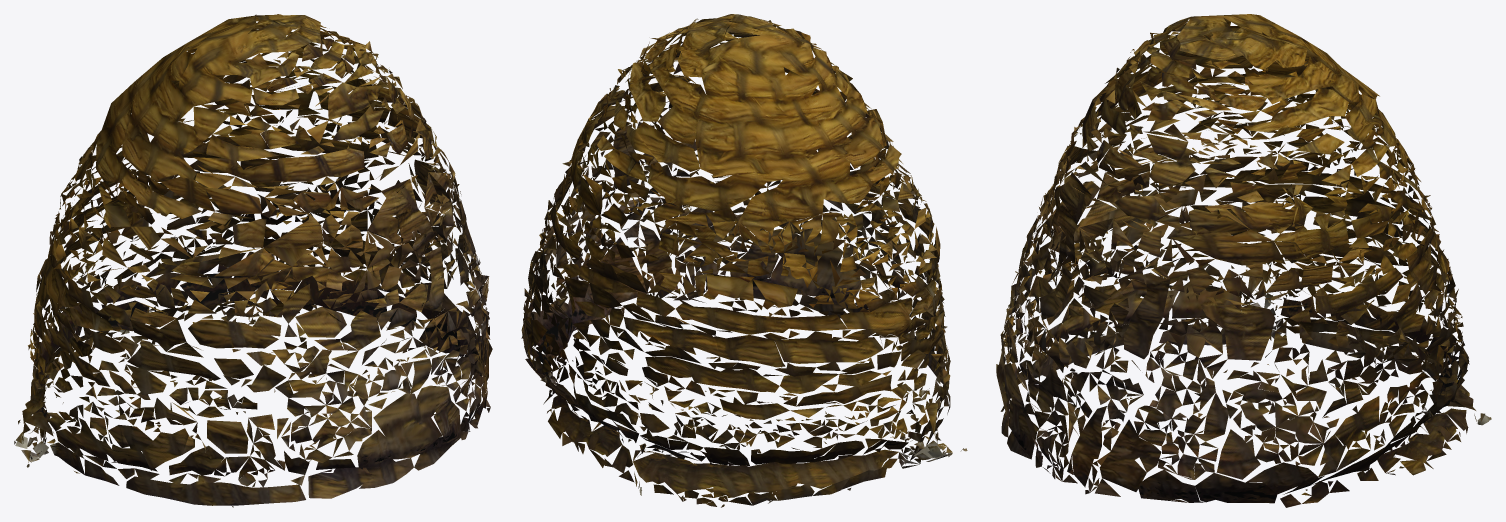
Rendered from beehive_skep.glb.
3 renders of one model, left to right at view 1: azimuth 30°, elevation 25°; view 2: azimuth 150°, elevation 25°; view 3: azimuth 270°, elevation 25°, orthographic. The views are drawn at different scales.
Parts seen in each view (by area): view 1: Object_3, Object_2, Object_4, Object_5; view 2: Object_2, Object_5, Object_4, Object_3; view 3: Object_3, Object_2, Object_4, Object_5.
Part boxes in pixels (bbox=[...]): Object_3: bbox=[15, 77, 490, 487]; Object_2: bbox=[50, 14, 426, 342]; Object_4: bbox=[14, 61, 492, 507]; Object_5: bbox=[33, 120, 475, 399]; Object_2: bbox=[587, 14, 936, 308]; Object_5: bbox=[532, 121, 945, 419]; Object_4: bbox=[521, 19, 967, 507]; Object_3: bbox=[523, 75, 950, 450]; Object_3: bbox=[1000, 94, 1469, 494]; Object_2: bbox=[1032, 14, 1428, 239]; Object_4: bbox=[996, 248, 1491, 507]; Object_5: bbox=[1008, 137, 1460, 384].
Bounding box in the file's own units: 2.47 × 2.15 × 2.31.
Materials: 1 (1 with a texture image).
